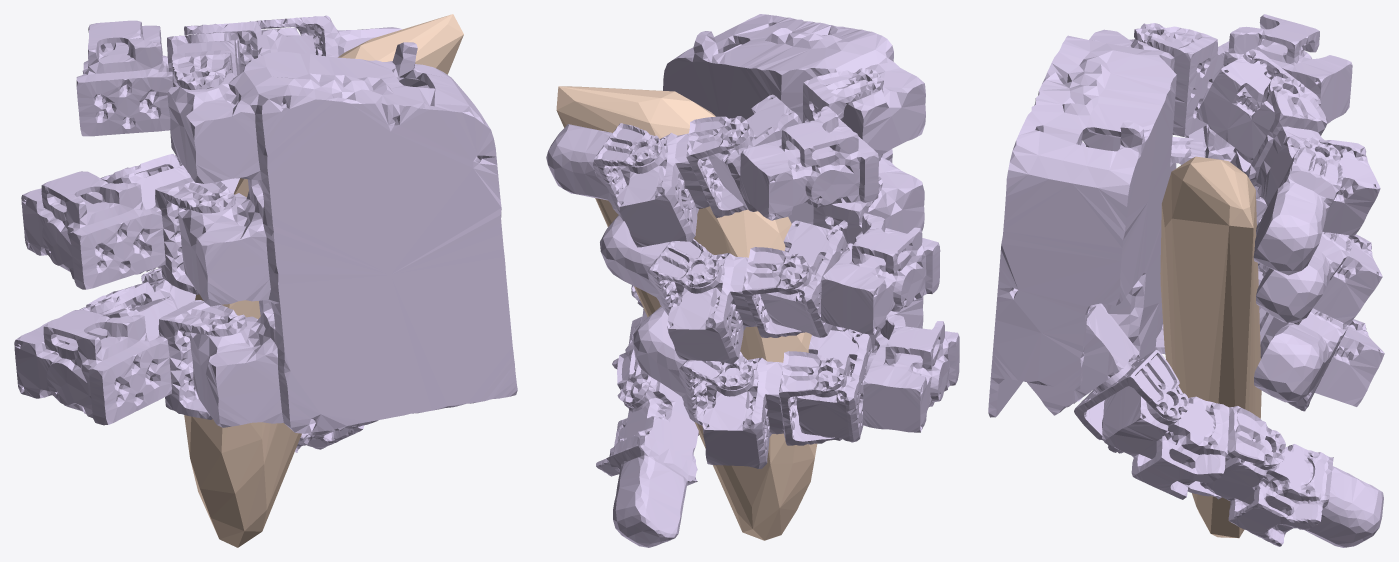
File: 19ba9d8686c494-closed.glb
3 renders of one model, left to right at view 1: azimuth 30°, elevation 25°; view 2: azimuth 150°, elevation 25°; view 3: azimuth 270°, elevation 25°, orthographic. The views are drawn at different scales.
Visible parts, largest first — view 1: LEAP_hand, world; view 2: LEAP_hand, world; view 3: LEAP_hand, world.
Part boxes in pixels (bbox=[...]): LEAP_hand: bbox=[14, 15, 517, 452]; world: bbox=[184, 14, 463, 547]; LEAP_hand: bbox=[546, 14, 959, 547]; world: bbox=[556, 86, 817, 540]; LEAP_hand: bbox=[988, 14, 1384, 547]; world: bbox=[1160, 156, 1261, 538].
Bounding box in the file's own units: 0.1677 × 0.195 × 0.1459.
